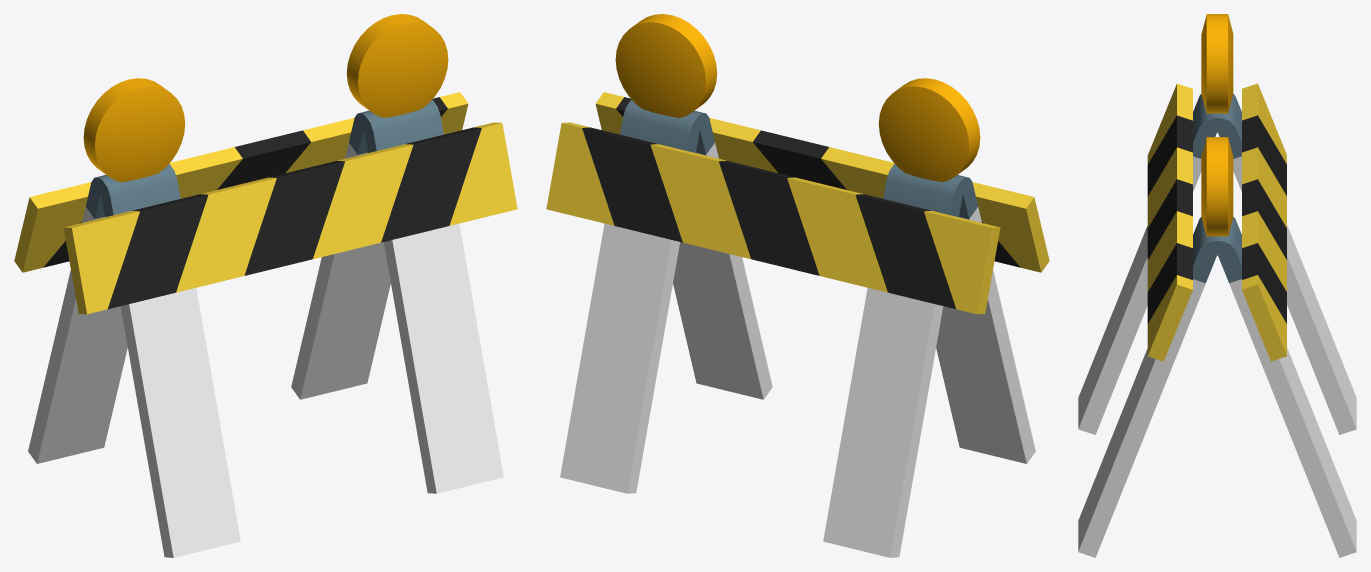
The model's file is construction.glb.
The picture shows the model from 3 angles, left to right: view 1: azimuth 30°, elevation 25°; view 2: azimuth 150°, elevation 25°; view 3: azimuth 270°, elevation 25°; orthographic projection. The views are drawn at different scales.
Visible parts, largest first — view 1: Plane.237; view 2: Plane.237; view 3: Plane.237.
Part boxes in pixels (<box>): Plane.237: <box>14,14,517,557</box>; Plane.237: <box>546,14,1049,557</box>; Plane.237: <box>1078,14,1356,557</box>.
Size of the model in its own units: 2.22 by 2.06 by 1.3.
1 material, 1 textured.
